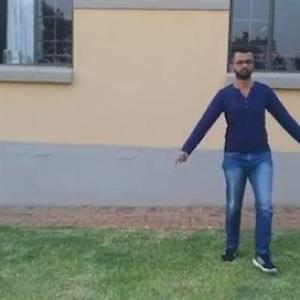land: (176, 49, 300, 273)
